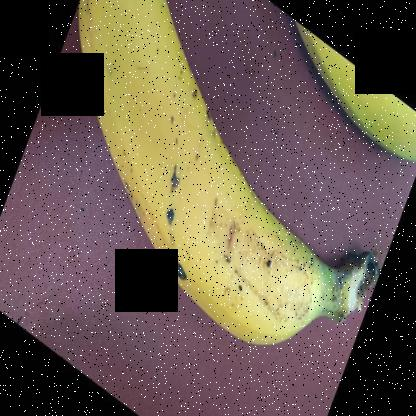ripe: (68, 0, 327, 336)
